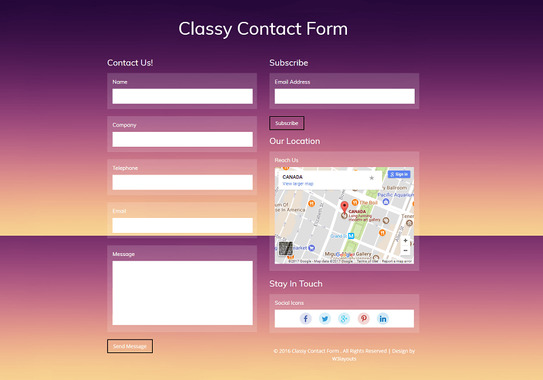_form_: (68, 1, 484, 380)
button: (105, 337, 154, 354), (268, 114, 306, 131)
field: (110, 259, 254, 327), (273, 87, 416, 107), (112, 87, 254, 106), (112, 130, 254, 149), (109, 216, 255, 234), (110, 173, 254, 191)
field_with_label: (109, 250, 255, 328), (271, 78, 418, 108), (107, 207, 257, 236), (110, 79, 255, 107), (110, 122, 255, 150), (109, 165, 256, 192)
